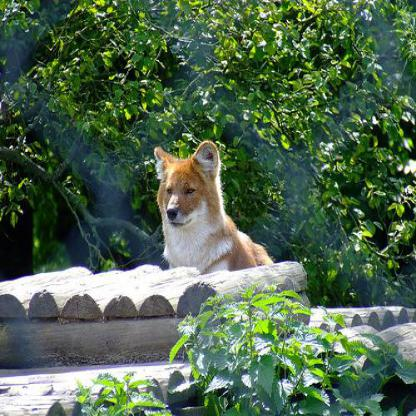dhole: (153, 140, 273, 270)
